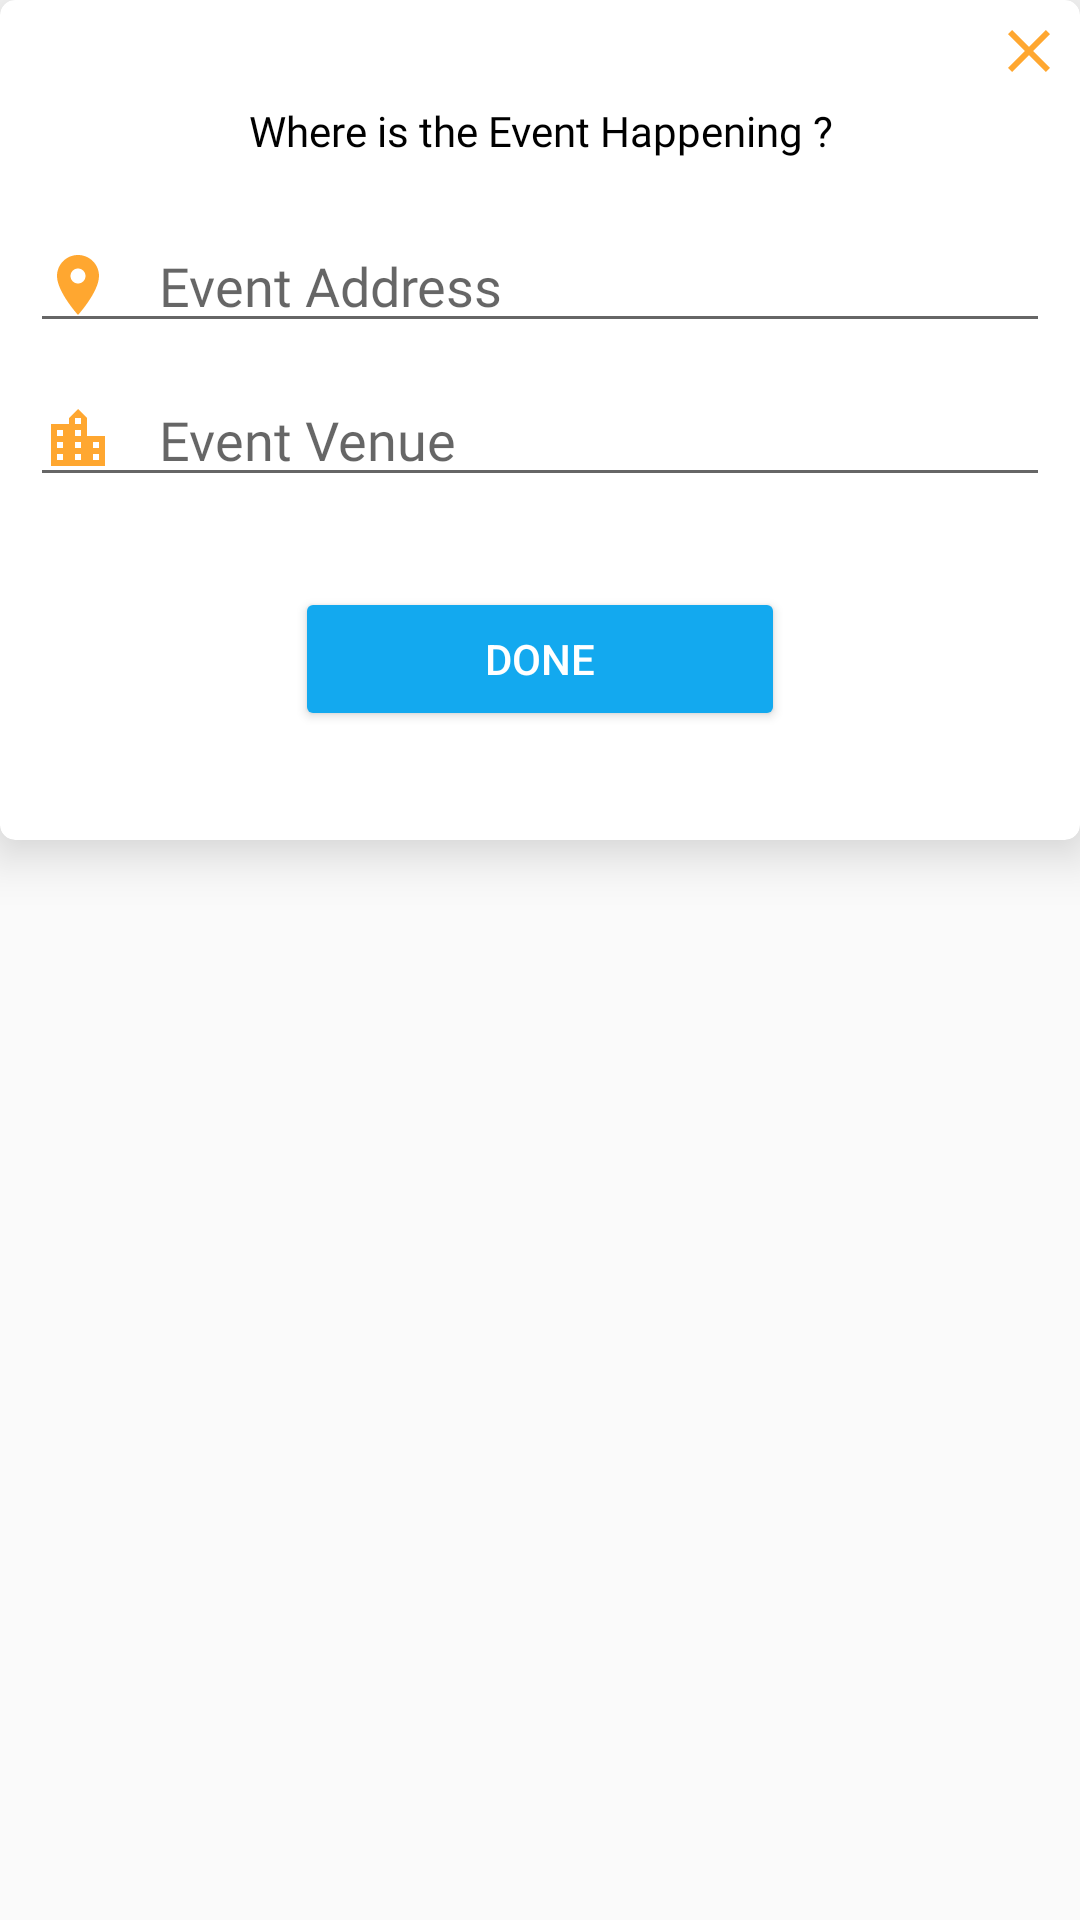

Icons on this 1080*1920 Android screen, each with its box as [x1,y1,x2,y2]:
close: [1008,30,1050,72]
